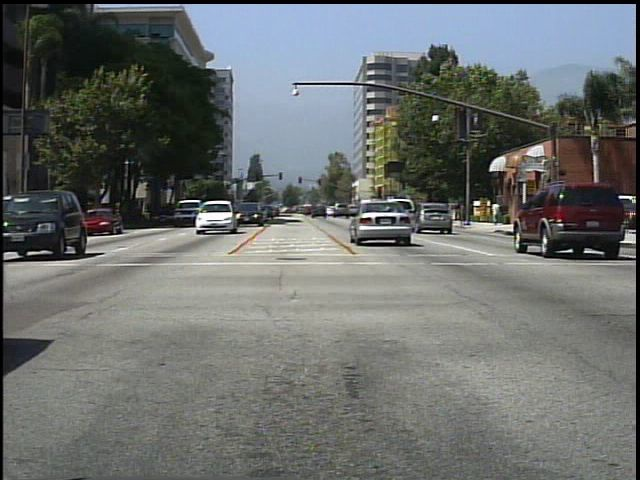person: (447, 194, 464, 229), (491, 198, 502, 226)
